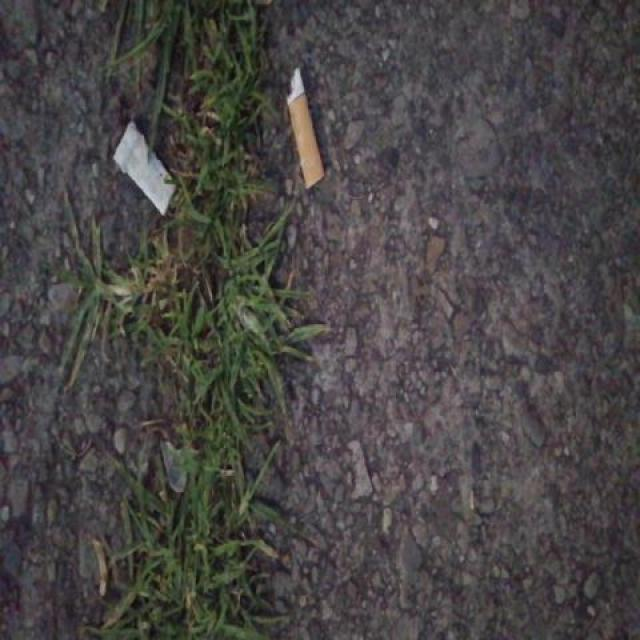non-organic waste: (109, 118, 183, 222), (282, 63, 327, 193)
